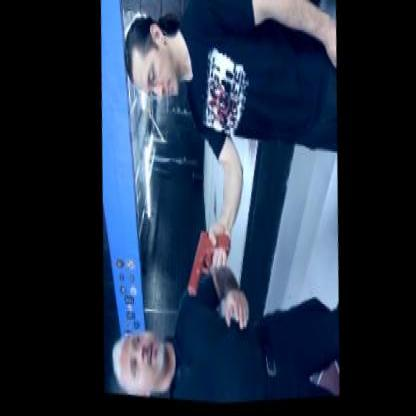pistol: (178, 226, 230, 304)
